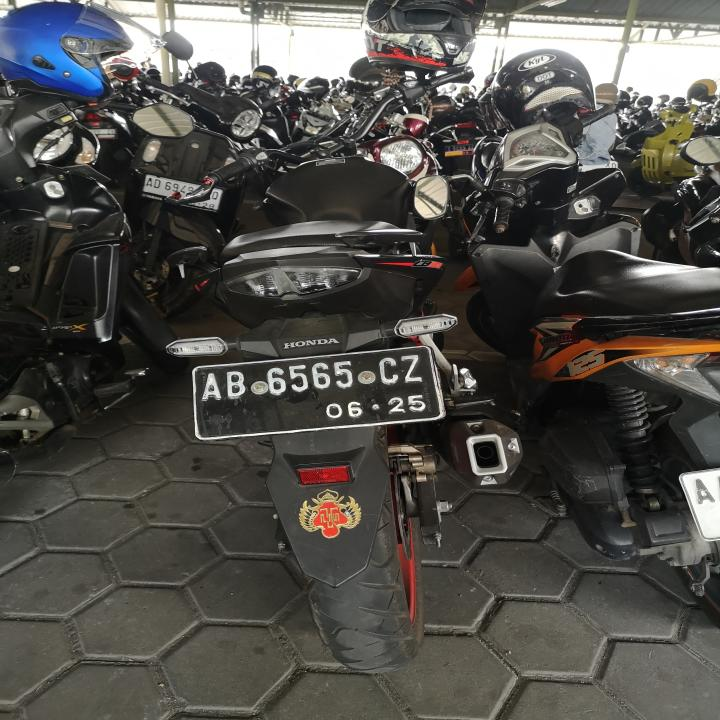plate: (189, 343, 447, 441), (139, 171, 224, 213)
